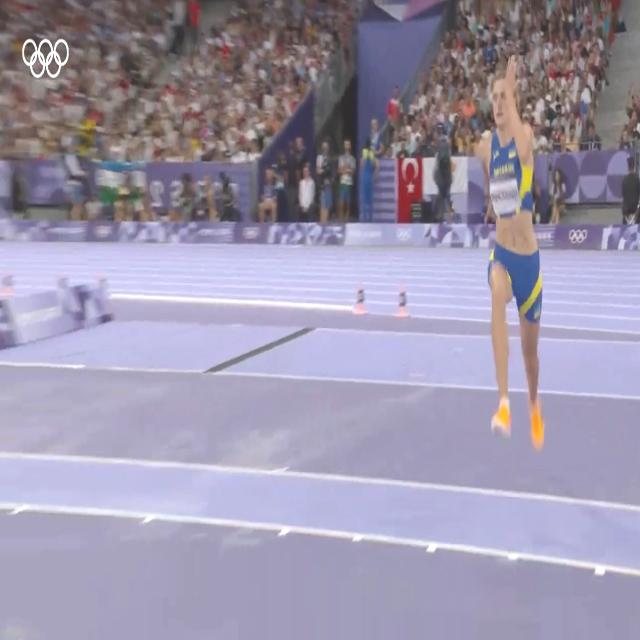run: (474, 33, 546, 449)
